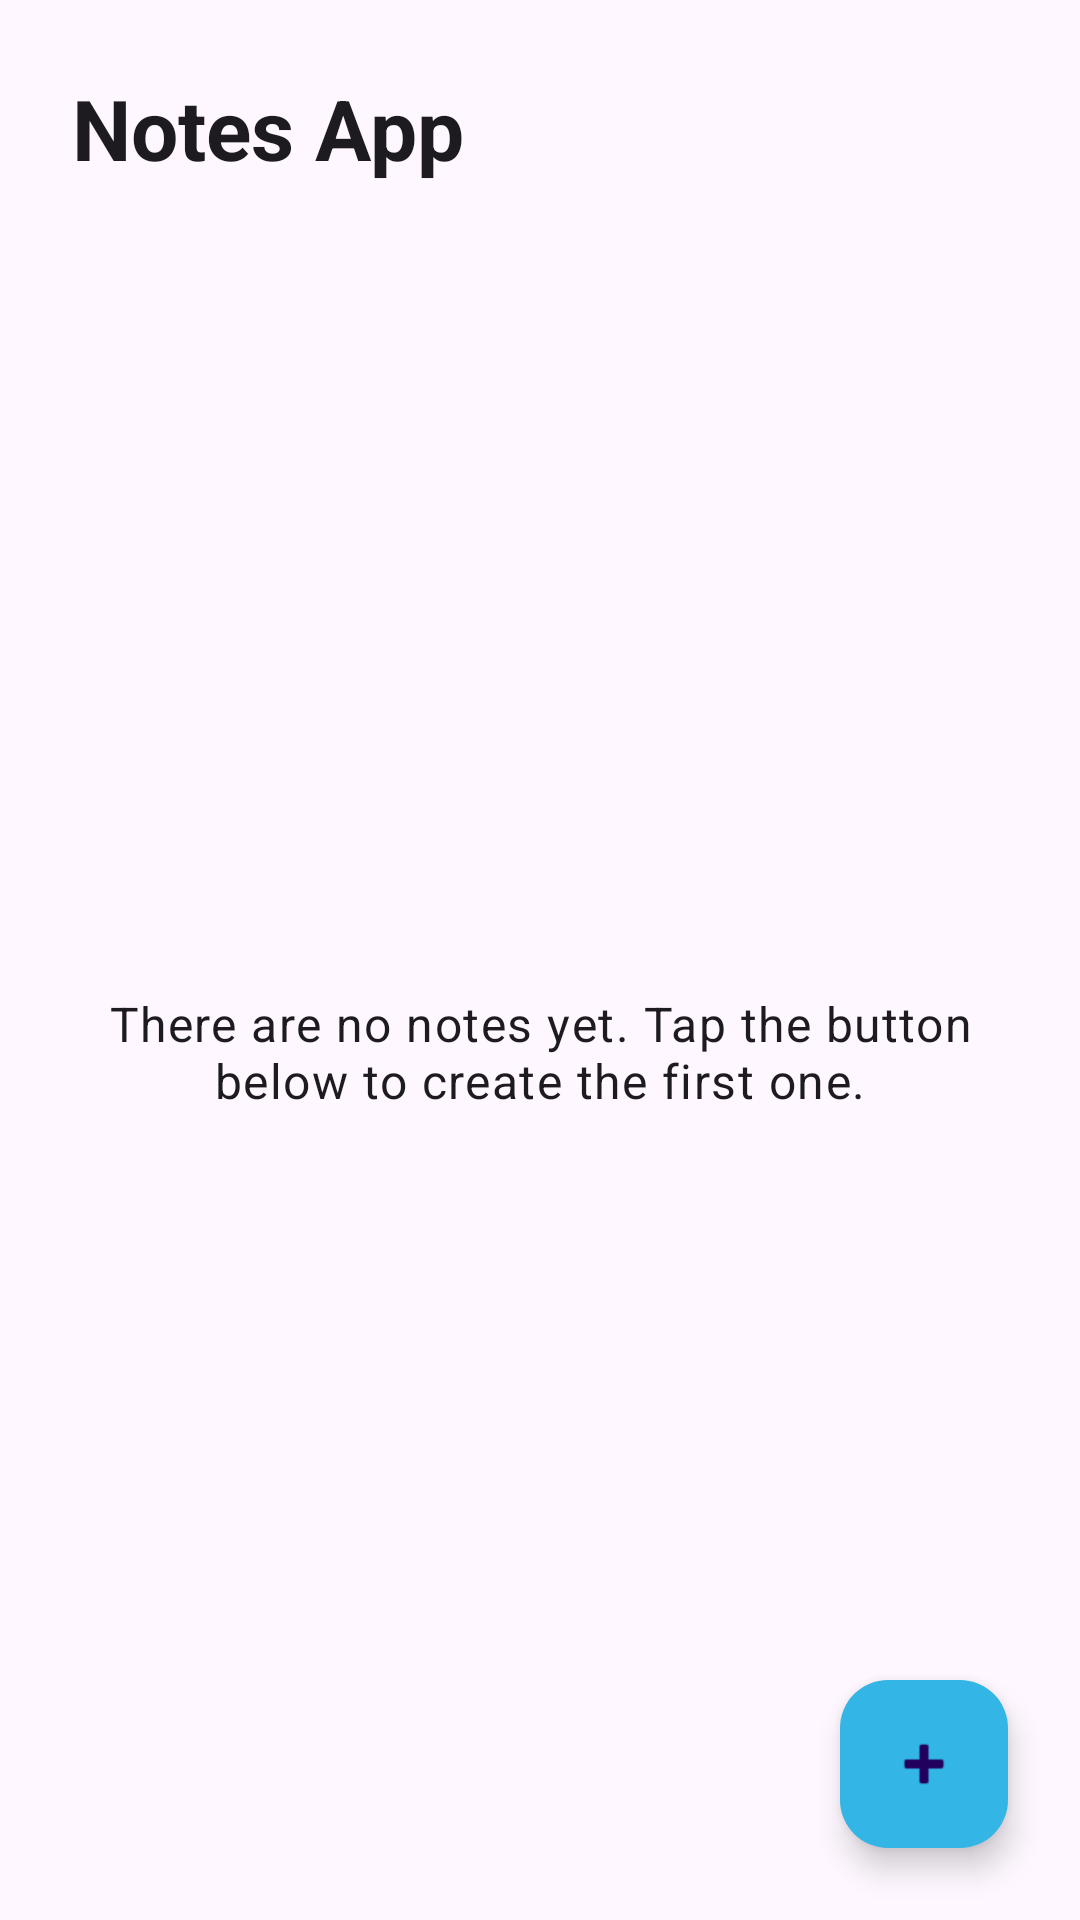

Icons on this 1080w x 1920h Android screen, each with its box as (x1, y1, x2, y2):
Add note: (840, 1680, 1008, 1848)
